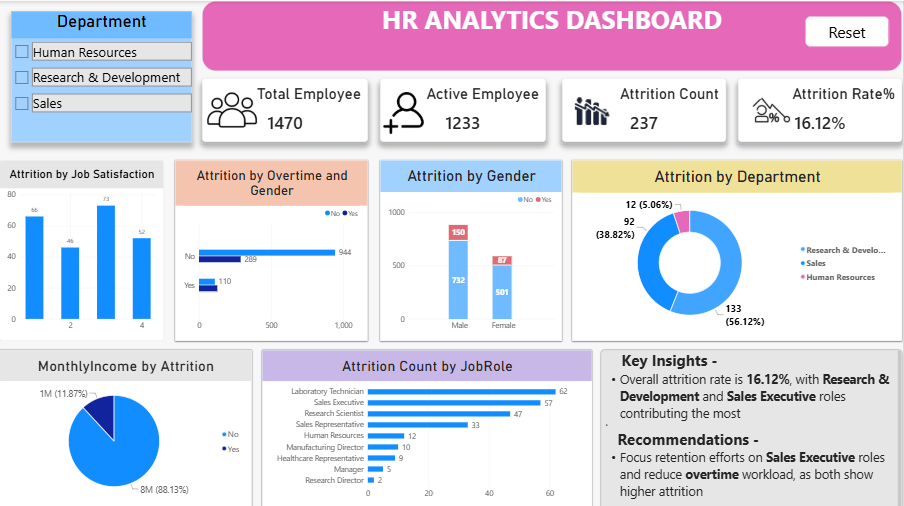

The page's visual inventory and layout, read from the dashboard file:
{"tool":"powerbi","page":{"name":"HR ANALYTICS","canvas":[1920,1080],"ordinal":0},"visuals":[{"type":"textbox","box":[431.6,0,1488.2,148.8],"z":0},{"type":"card","title":"Total Employee","fields":{"Values":["company_attrition.Total Employees"]},"box":[431.6,163.7,352.9,136.1],"z":1000},{"type":"card","title":"Attrition Count","fields":{"Values":["company_attrition.Attrition Count"]},"box":[1196.9,163.7,348.7,136.1],"z":2000},{"type":"card","title":"Attrition Rate%","fields":{"Values":["company_attrition.Attrition Rate"]},"box":[1571.1,163.7,348.7,136.1],"z":3000},{"type":"card","title":"Active Employee","fields":{"Values":["company_attrition.Active Employees"]},"box":[810,163.7,352.9,136.1],"z":4000},{"type":"image","box":[810,193.5,99.9,89.3],"z":5000},{"type":"image","box":[431.6,148.8,127.6,165.8],"z":6000},{"type":"image","box":[1196.9,176.5,127.6,131.8],"z":7000},{"type":"image","box":[1571.1,136.1,142.4,202],"z":8000},{"type":"slicer","title":"Department","fields":{"Values":["company_attrition.Department"]},"box":[25.5,21.3,384.8,278.5],"z":9000},{"type":"donutChart","title":"Attrition by Department","fields":{"Category":["company_attrition.Department"],"Y":["company_attrition.Attrition Count"]},"box":[1218.2,338,701.6,384.8],"z":10000},{"type":"actionButton","box":[1713.5,31.9,178.6,65.9],"z":12001},{"type":"columnChart","title":"Attrition by Gender","fields":{"Category":["company_attrition.Gender"],"Series":["company_attrition.Attrition"],"Y":["company_attrition.Total Employees"]},"box":[810,338,386.9,384.8],"z":12002},{"type":"clusteredBarChart","title":"Attrition by Overtime and Gender","fields":{"Category":["company_attrition.Attrition"],"Series":["company_attrition.OverTime"],"Y":["CountNonNull(company_attrition.Gender)"]},"box":[374.2,338,410.3,384.8],"z":12003},{"type":"pieChart","title":" MonthlyIncome by Attrition","fields":{"Category":["company_attrition.Attrition"],"Y":["Sum(company_attrition.MonthlyIncome)"]},"box":[0,742,537.9,338],"z":12004},{"type":"clusteredBarChart","title":"Attrition Count by JobRole","fields":{"Category":["company_attrition.JobRole"],"Y":["company_attrition.Attrition Count"]},"box":[559.1,742,701.6,338],"z":12005},{"type":"textbox","box":[1279.8,742,639.9,338],"z":12006},{"type":"clusteredColumnChart","title":"Attrition by Job Satisfaction","fields":{"Category":["company_attrition.JobSatisfaction"],"Y":["company_attrition.Attrition Count"]},"box":[0,338,350.8,384.8],"z":12007}]}

Visuals, with their boxes in screenshot pixels (x1, y1, x2, y2), scaled from the page's 1920x1080 canvas onto the 904x506 screenshot:
textbox: locate(203, 0, 903, 70)
"Total Employee" card: locate(203, 77, 369, 140)
"Attrition Count" card: locate(564, 77, 728, 140)
"Attrition Rate%" card: locate(740, 77, 903, 140)
"Active Employee" card: locate(381, 77, 548, 140)
image: locate(381, 91, 428, 132)
image: locate(203, 70, 263, 147)
image: locate(564, 83, 624, 144)
image: locate(740, 64, 807, 158)
"Department" slicer: locate(12, 10, 193, 140)
"Attrition by Department" donutChart: locate(574, 158, 903, 339)
actionButton: locate(807, 15, 891, 46)
"Attrition by Gender" columnChart: locate(381, 158, 564, 339)
"Attrition by Overtime and Gender" clusteredBarChart: locate(176, 158, 369, 339)
" MonthlyIncome by Attrition" pieChart: locate(0, 348, 253, 505)
"Attrition Count by JobRole" clusteredBarChart: locate(263, 348, 594, 505)
textbox: locate(603, 348, 903, 505)
"Attrition by Job Satisfaction" clusteredColumnChart: locate(0, 158, 165, 339)
